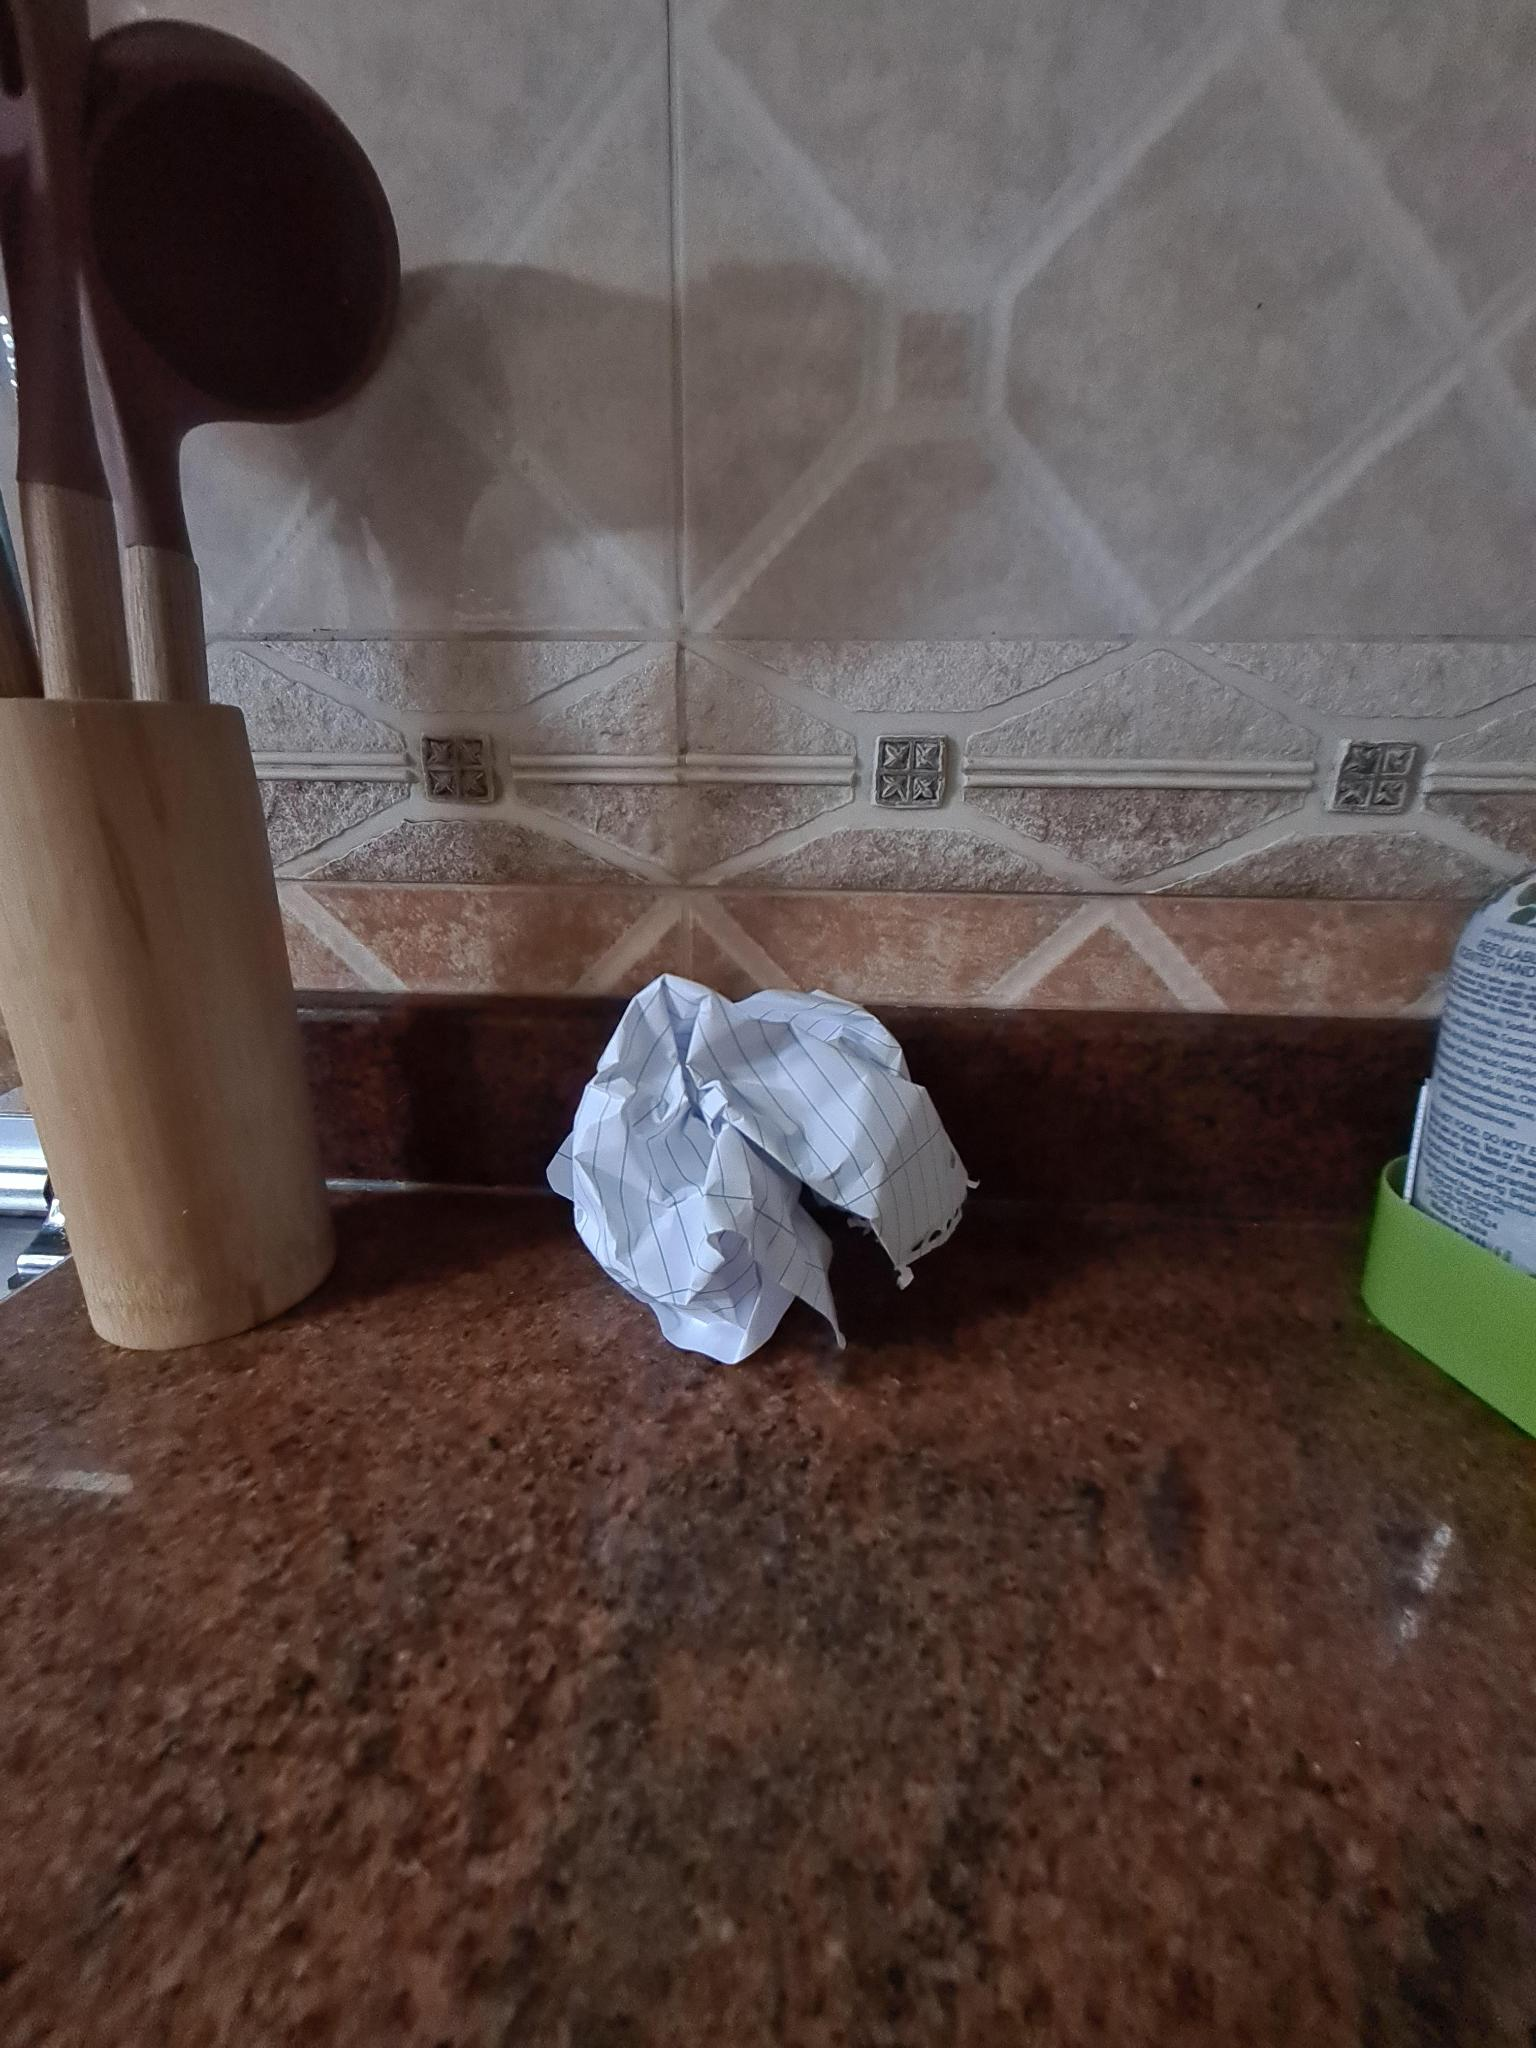metal: (1363, 879, 1534, 1430)
paper: (549, 976, 970, 1363)
plastic: (1363, 879, 1534, 1430)
